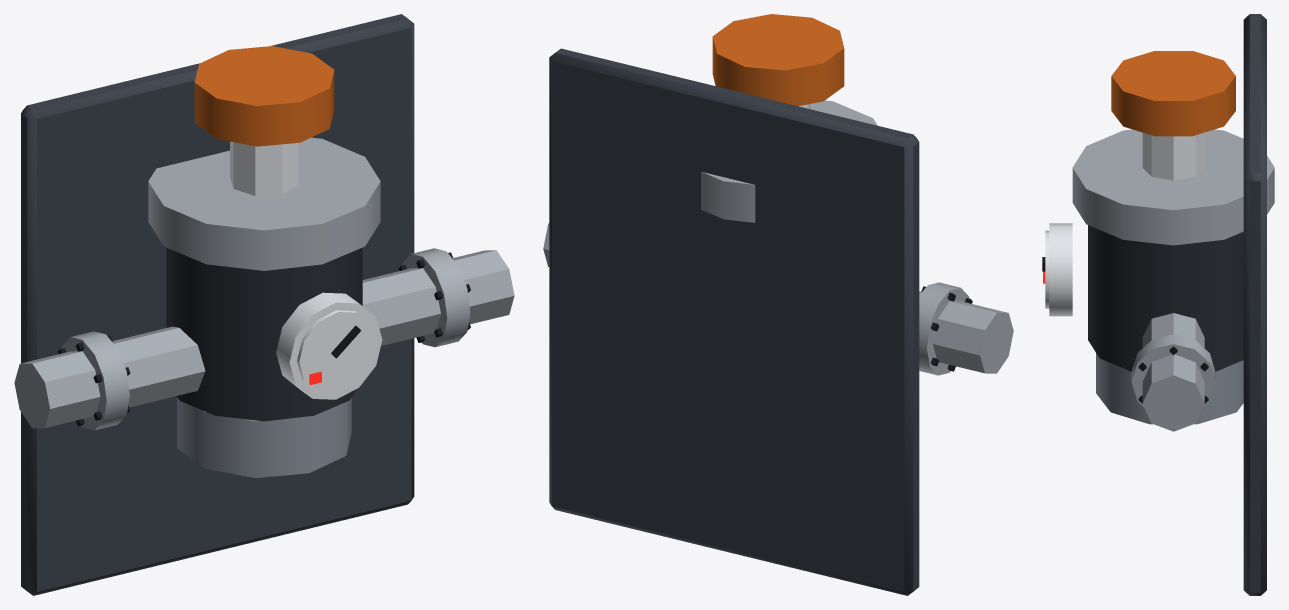
File: valve_pressure_regulator.glb
3 views of the same model, side by side, from view 1: azimuth 30°, elevation 25°; view 2: azimuth 150°, elevation 25°; view 3: azimuth 270°, elevation 25° (orthographic). The views are drawn at different scales.
Visible parts, largest first — view 1: valve_pressure_regulator; view 2: valve_pressure_regulator; view 3: valve_pressure_regulator.
Part boxes in pixels (x1,y1,x2,y2): valve_pressure_regulator: [14, 14, 514, 595]; valve_pressure_regulator: [543, 14, 1013, 595]; valve_pressure_regulator: [1042, 14, 1274, 595].
Bounding box in the file's own units: 0.6 × 0.625 × 0.299.
